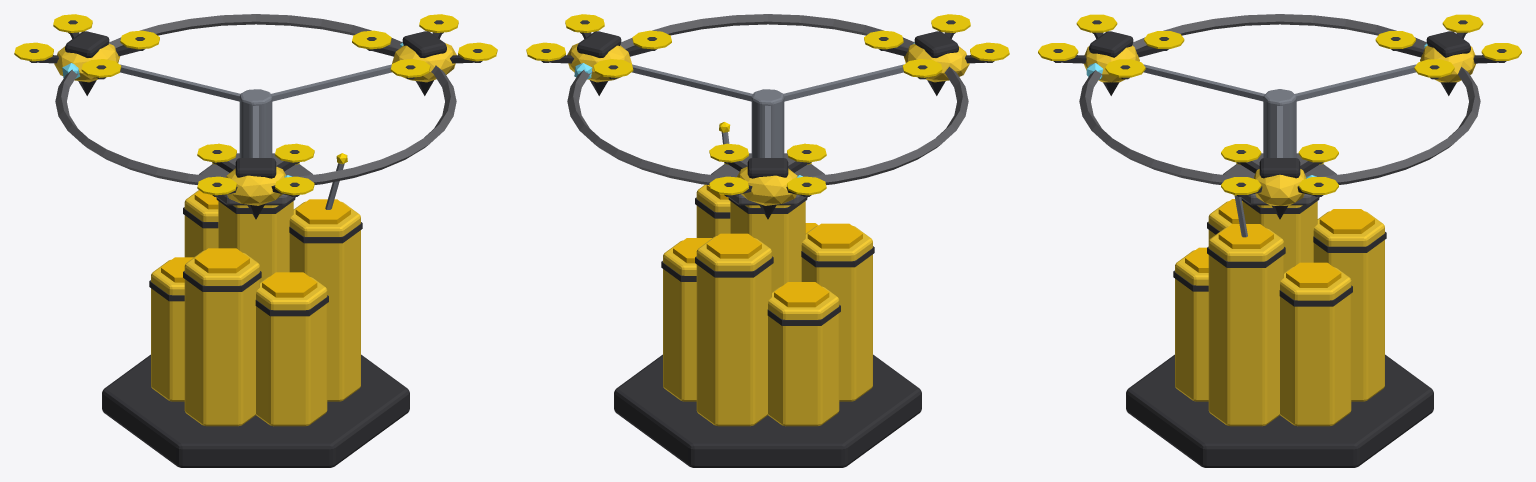
Rendered from torreta_colmena.glb.
3 renders of one model, left to right at view 1: azimuth 30°, elevation 25°; view 2: azimuth 150°, elevation 25°; view 3: azimuth 270°, elevation 25°, orthographic.
Visible parts, largest first — view 1: Base, Pivot; view 2: Base, Pivot; view 3: Base, Pivot.
Part boxes in pixels (left/top/right/bottom): Base: left=102, top=153, right=409, bottom=467; Pivot: left=14, top=14, right=497, bottom=219; Base: left=614, top=122, right=921, bottom=467; Pivot: left=526, top=14, right=1009, bottom=219; Base: left=1126, top=153, right=1433, bottom=467; Pivot: left=1038, top=14, right=1521, bottom=219.
Bounding box in the file's own units: 4.24 × 3.43 × 4.53.
1 material, 1 textured.
